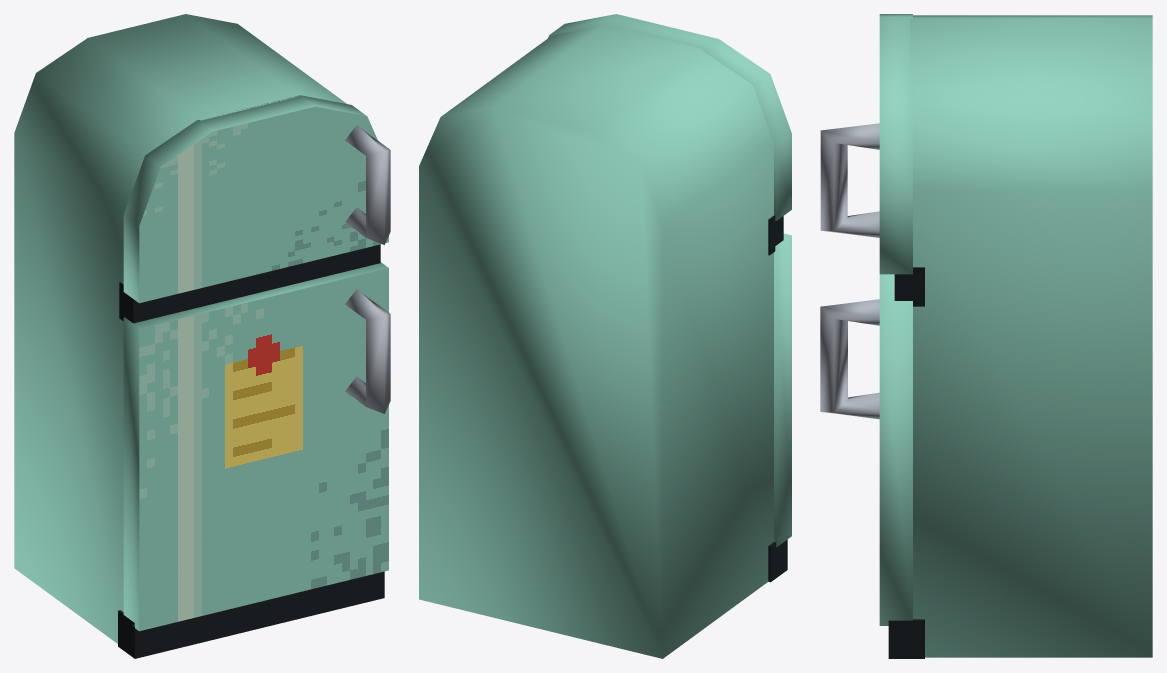
Rendered from home-fridge.glb.
3 views of the same model, side by side, from view 1: azimuth 30°, elevation 25°; view 2: azimuth 150°, elevation 25°; view 3: azimuth 270°, elevation 25° (orthographic). The views are drawn at different scales.
Visible parts, largest first — view 1: home.fridge; view 2: home.fridge; view 3: home.fridge.
Part boxes in pixels (x1,y1,x2,y2): home.fridge: [14, 14, 390, 658]; home.fridge: [419, 14, 791, 658]; home.fridge: [820, 14, 1152, 658].
Size of the model in its own units: 0.8193 by 1.61 by 0.8798.
Materials: 5 (4 with a texture image).
